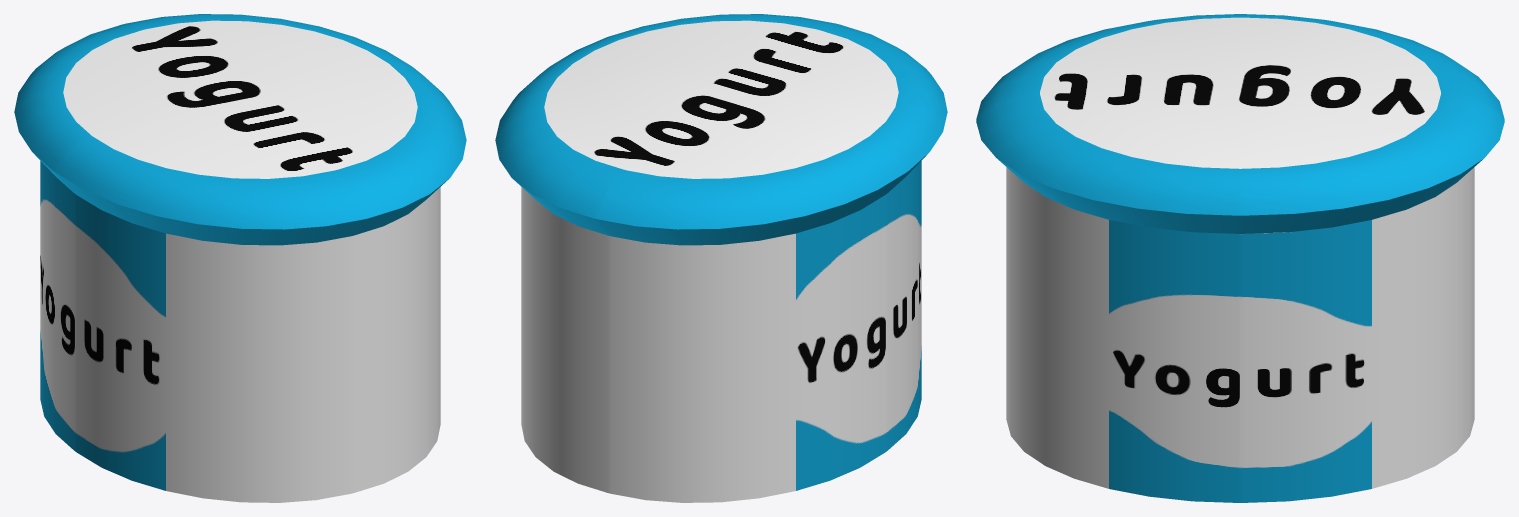
Rendered from yogurt.fbx.
3 renders of one model, left to right at view 1: azimuth 30°, elevation 25°; view 2: azimuth 150°, elevation 25°; view 3: azimuth 270°, elevation 25°, orthographic. The views are drawn at different scales.
Parts seen in each view (by area): view 1: Kap, Kapak; view 2: Kap, Kapak; view 3: Kap, Kapak.
Part boxes in pixels (x1=…): Kap: x1=40, y1=161, x2=440, y2=502; Kapak: x1=14, y1=14, x2=466, y2=245; Kap: x1=521, y1=161, x2=921, y2=502; Kapak: x1=495, y1=14, x2=947, y2=245; Kap: x1=1006, y1=167, x2=1474, y2=502; Kapak: x1=976, y1=14, x2=1504, y2=233.
Size of the model in its own units: 30.6 by 24.48 by 36.
1 material, 1 textured.
